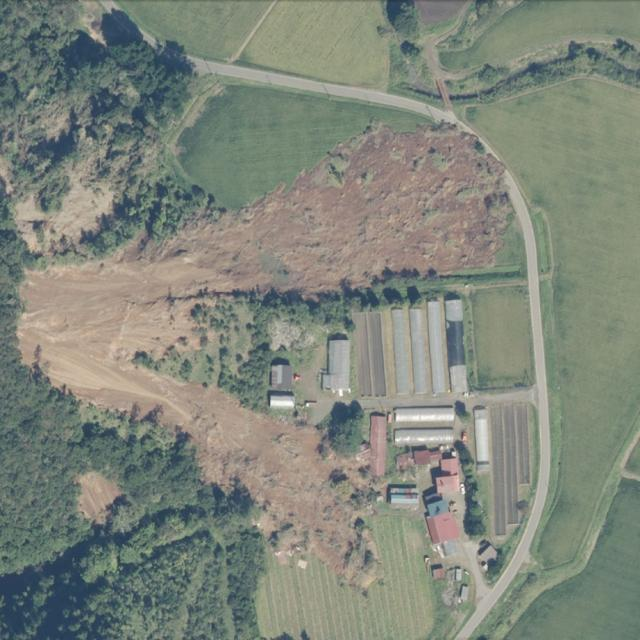landslide: (17, 126, 513, 575)
